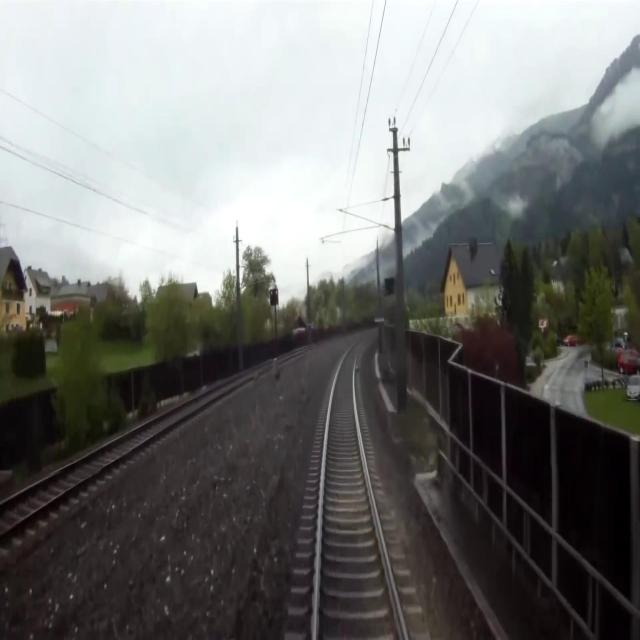rail-track: (0, 366, 266, 529), (318, 345, 403, 639)
